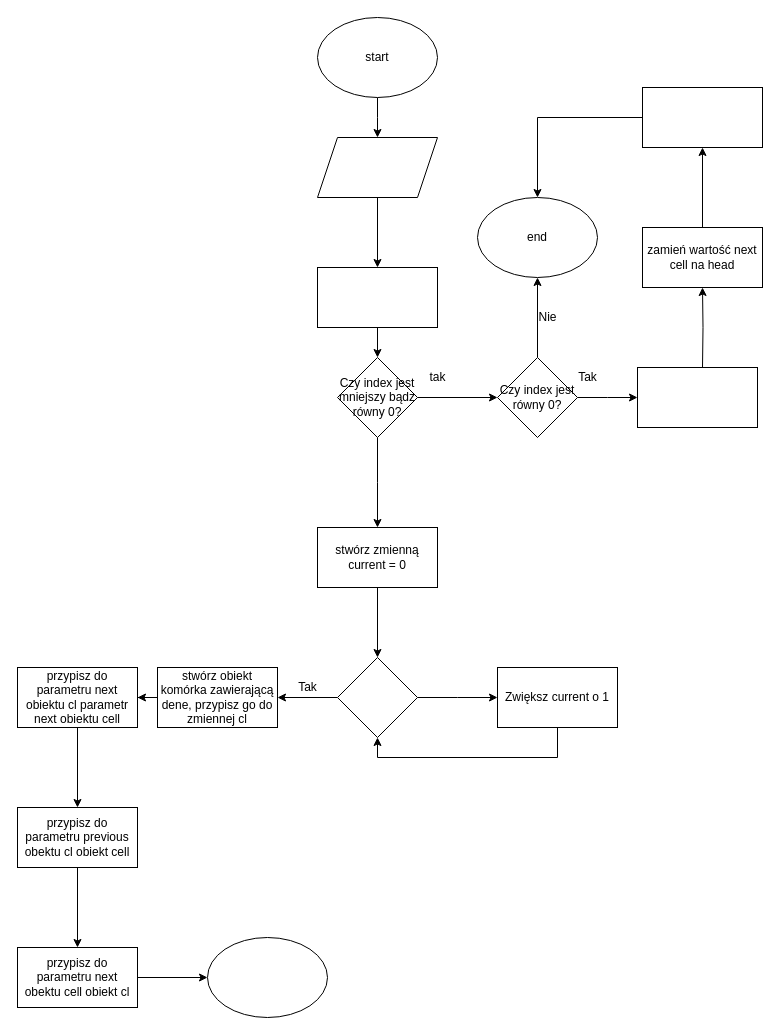
This 780x1035 diagram has some shape labels left out. Here are the shapes that lost their labels. From the top down, the centre of each, then its label:
At pixel 702 117: "zamień wartość head na cell".
At pixel 377 167: "pobierz zmienną index, pobeirz zmienną dane".
At pixel 377 297: "Przypisz zmienną head do cell".
At pixel 697 397: "stwórz nowy obiekt komórki zawierającej dane i przypisz obiekt to cell".
At pixel 377 697: "Czy current+1 jest równe index?".
